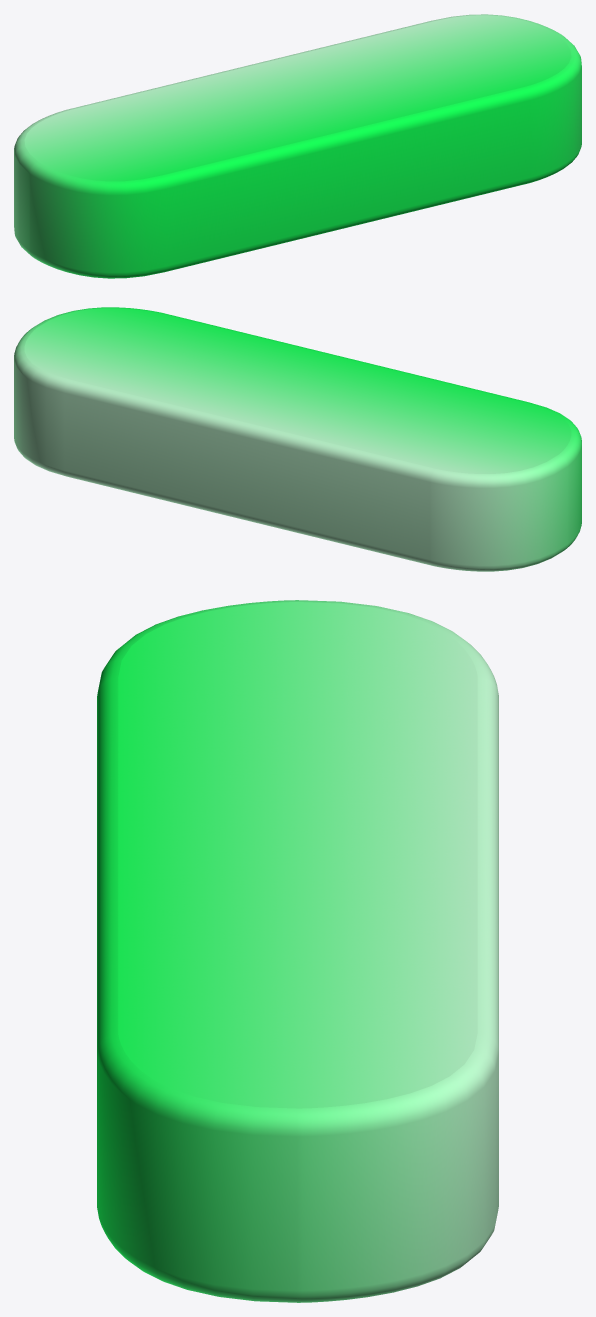
The model's file is Paddle-27.dae.
3 views of the same model, one above another, from view 1: azimuth 30°, elevation 25°; view 2: azimuth 150°, elevation 25°; view 3: azimuth 270°, elevation 25° (orthographic). The views are drawn at different scales.
Visible parts, largest first — view 1: Paddle; view 2: Paddle; view 3: Paddle.
Boxes of the visible parts, x1,y1,x2,y2 form: Paddle: [14, 14, 581, 278]; Paddle: [14, 307, 581, 571]; Paddle: [97, 600, 498, 1302].
Bounding box in the file's own units: 0.2922 × 0.0947 × 0.05.
Materials: 1 (1 with a texture image).
